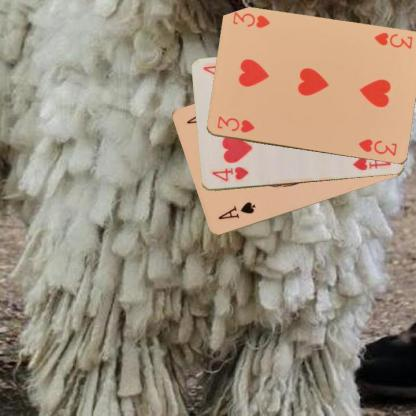3h: (371, 30, 414, 50), (214, 114, 255, 134)
4h: (209, 164, 250, 183)
As: (215, 200, 256, 222)
